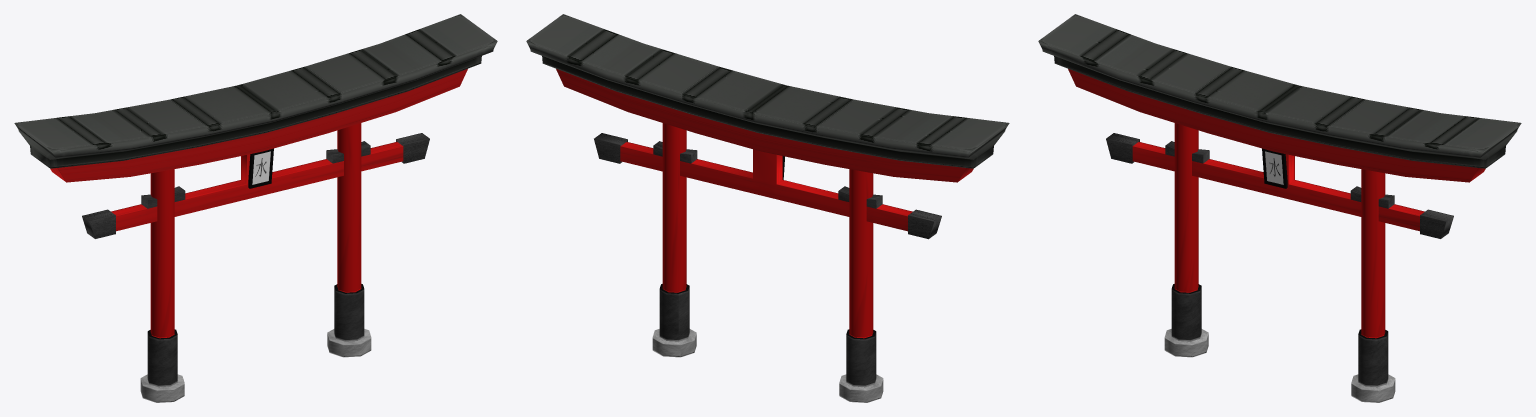
File: Torii_Model.fbx
3 views of the same model, side by side, from view 1: azimuth 30°, elevation 25°; view 2: azimuth 150°, elevation 25°; view 3: azimuth 330°, elevation 25° (orthographic).
Parts seen in each view (by area): view 1: Top_Structure, Middle_Support, Base_Structure, Pilars1, Pilars2, Frame; view 2: Top_Structure, Middle_Support, Base_Structure, Pilars1, Pilars2; view 3: Top_Structure, Middle_Support, Base_Structure, Pilars2, Pilars1, Frame.
Part boxes in pixels (bbox=[...]): Top_Structure: bbox=[14, 14, 497, 168]; Middle_Support: bbox=[82, 133, 429, 238]; Base_Structure: bbox=[50, 69, 467, 182]; Pilars1: bbox=[140, 169, 184, 402]; Pilars2: bbox=[327, 123, 371, 357]; Frame: bbox=[248, 148, 273, 188]; Top_Structure: bbox=[526, 14, 1009, 168]; Middle_Support: bbox=[594, 133, 941, 239]; Base_Structure: bbox=[556, 69, 973, 182]; Pilars1: bbox=[839, 169, 883, 402]; Pilars2: bbox=[652, 123, 696, 357]; Top_Structure: bbox=[1038, 14, 1521, 168]; Middle_Support: bbox=[1106, 133, 1453, 238]; Base_Structure: bbox=[1068, 69, 1485, 182]; Pilars2: bbox=[1351, 169, 1395, 402]; Pilars1: bbox=[1164, 123, 1208, 357]; Frame: bbox=[1262, 148, 1287, 188].
Size of the model in its own units: 59.37 by 36.69 by 8.53.
2 materials, 2 textured.
